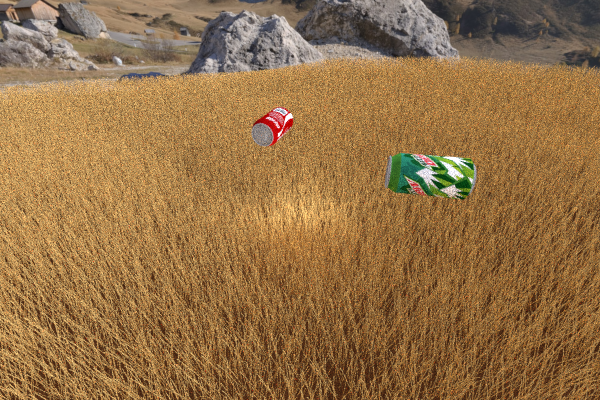bottle: (9, 276, 435, 400)
can: (384, 153, 476, 199), (251, 106, 293, 146)
